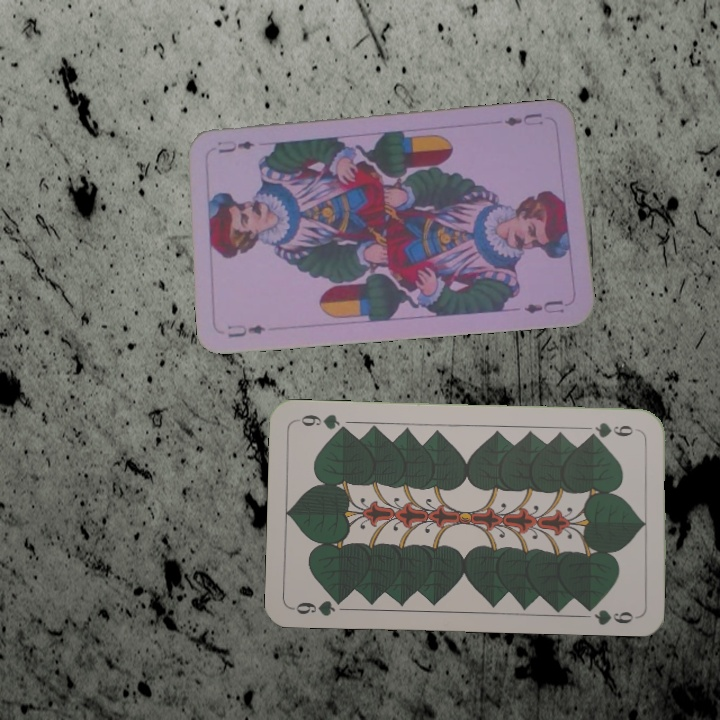EU: (223, 320, 267, 341), (500, 109, 546, 129)
G9: (289, 593, 348, 619), (584, 418, 643, 441)
